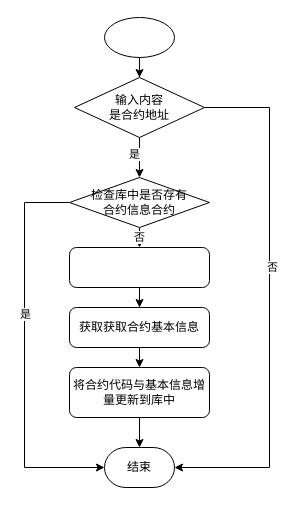
Image size: 295x505. Some labels were removed from this diagram. Here are the shapes that lost their labels. From the top down, the centre of each, then its label:
point 139,37: 开始
point 139,267: 获取合约代码
